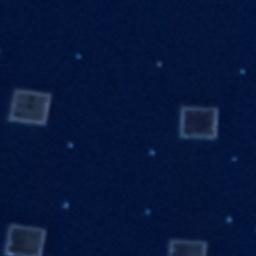square_cover: (174, 100, 224, 144), (6, 85, 55, 127), (1, 219, 50, 256), (166, 229, 215, 256)
